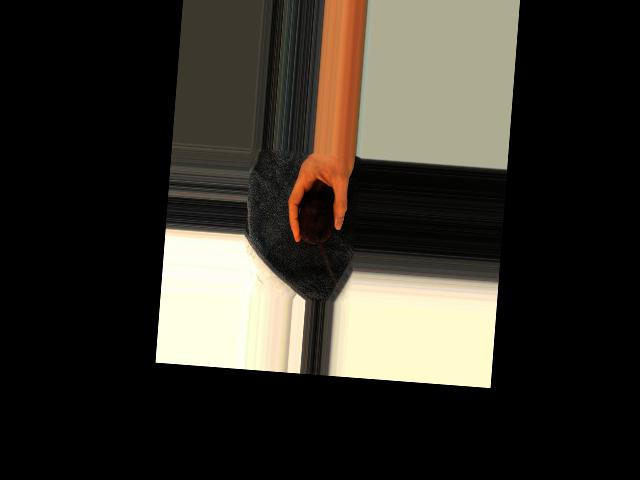beet: (296, 197, 336, 245)
